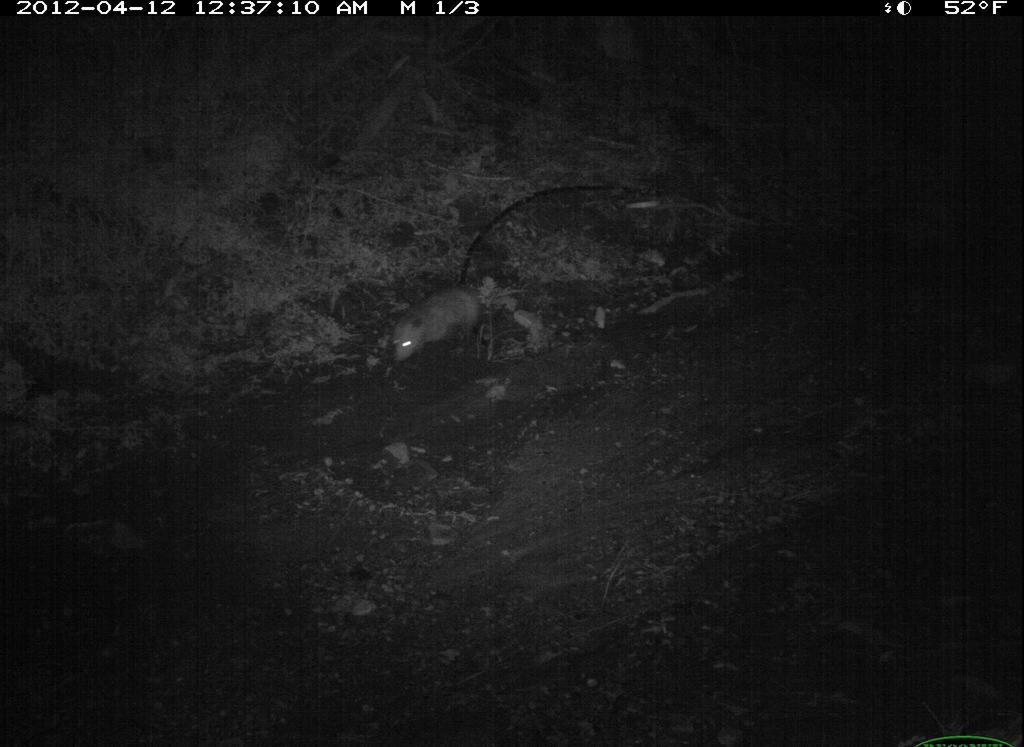opossum: (327, 242, 527, 399)
